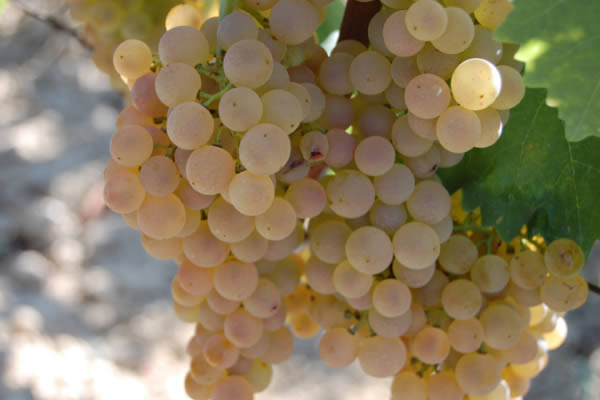Green grapes: (113, 34, 545, 392)
